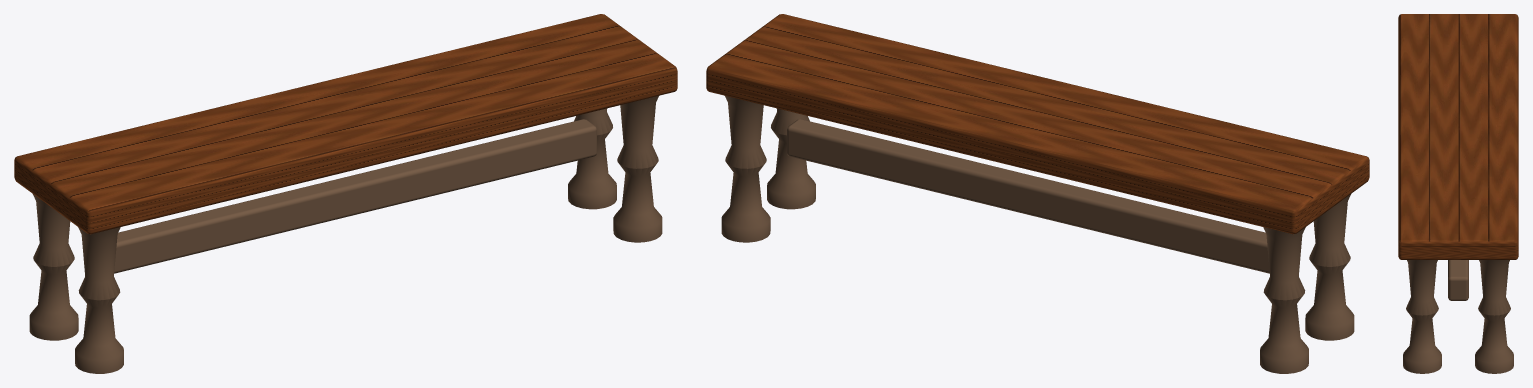
Rendered from adventurers-tavern-and-guild-hall-bench-45413c45__24687.glb.
3 renders of one model, left to right at view 1: azimuth 30°, elevation 25°; view 2: azimuth 150°, elevation 25°; view 3: azimuth 270°, elevation 25°, orthographic. The views are drawn at different scales.
Visible parts, largest first — view 1: bench; view 2: bench; view 3: bench.
Part boxes in pixels (box(x1,y1,x2,y2)): bench: box(14, 14, 677, 373); bench: box(706, 14, 1369, 373); bench: box(1398, 14, 1518, 373).
Bounding box in the file's own units: 1.8 × 0.495 × 0.3999.
Materials: 2 (1 with a texture image).
